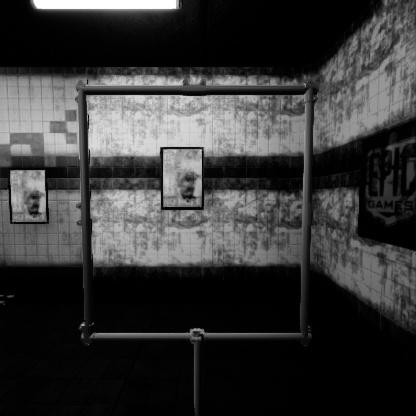gate: (78, 70, 340, 333)
